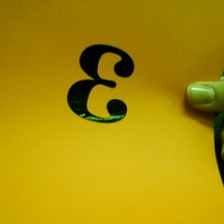orange3: (61, 41, 137, 127)
